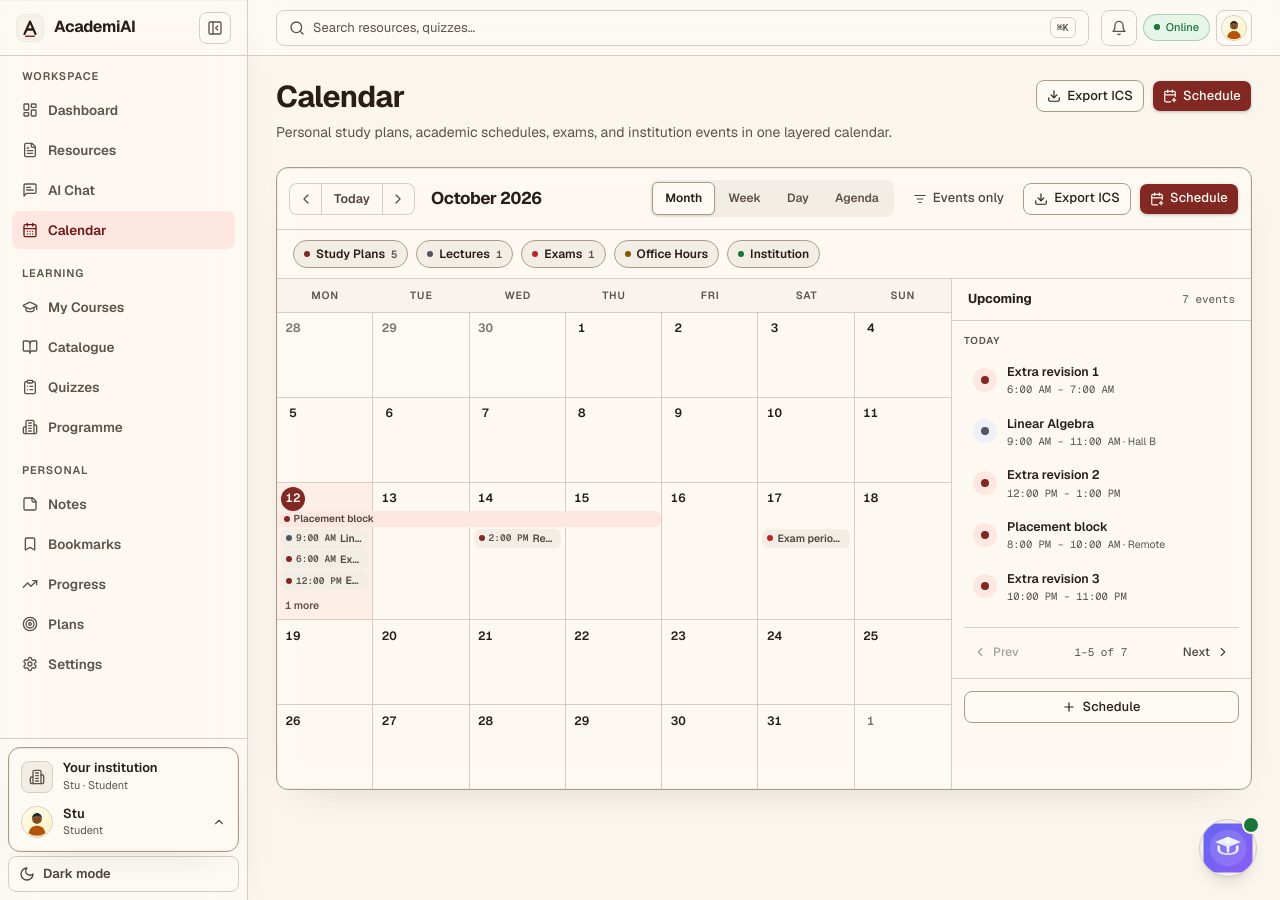
Test case: calendar views › opens the edit dialog for an own-layer event
This screenshot has width=1280, height=900.
Expected: the text "Linear Algebra" below "13" is shown, top-left (340, 531), bottom-right (413, 545)
Click the button titled "Extra revision 1" at (325, 559), box top-left (281, 550), bottom-right (368, 569)
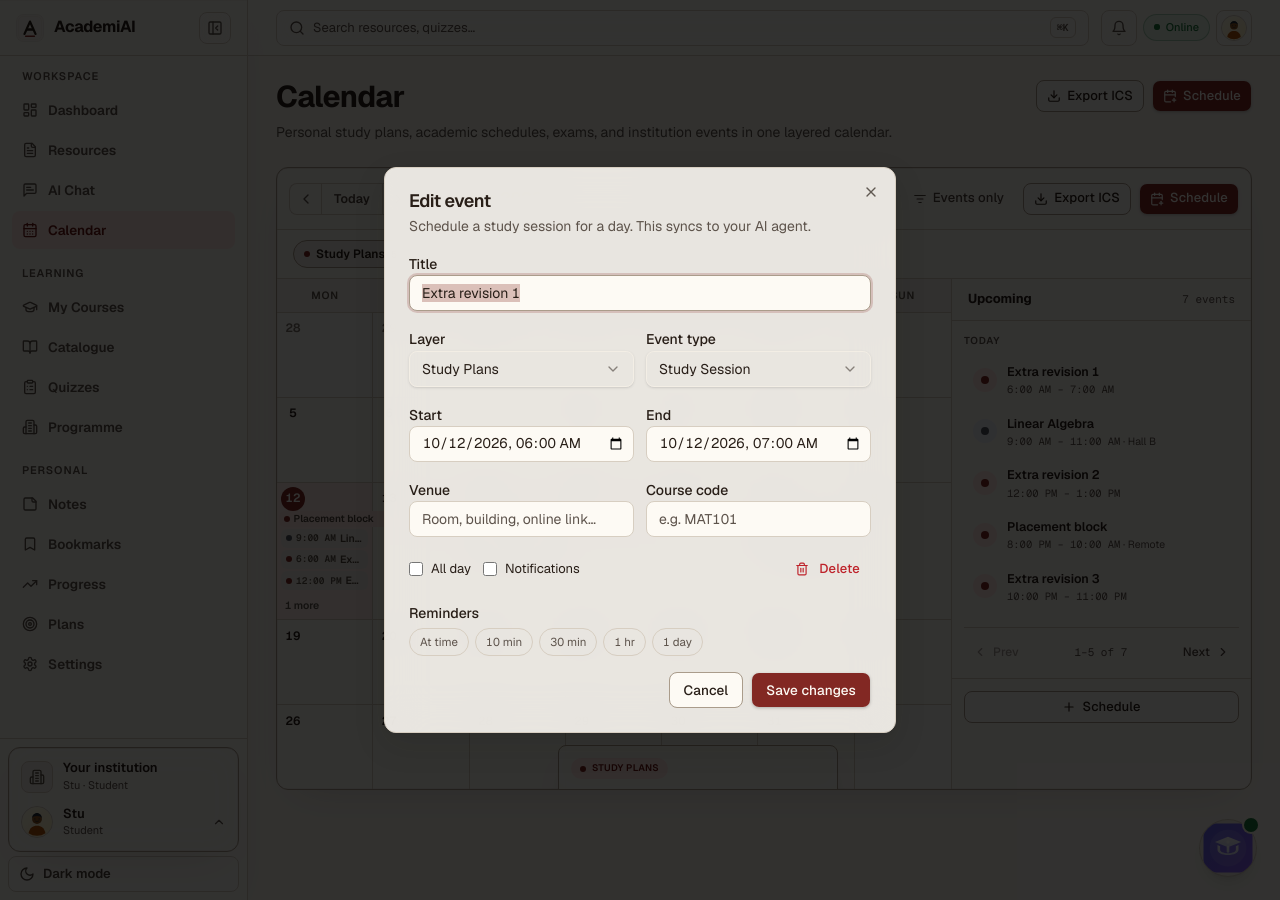
Result: the heading "Edit event" is shown at top-left (409, 189), bottom-right (491, 212)
Result: the field labelled "Title" holds "Extra revision 1" at top-left (409, 275), bottom-right (871, 311)
Result: the button "Delete" is shown at top-left (784, 553), bottom-right (871, 585)
